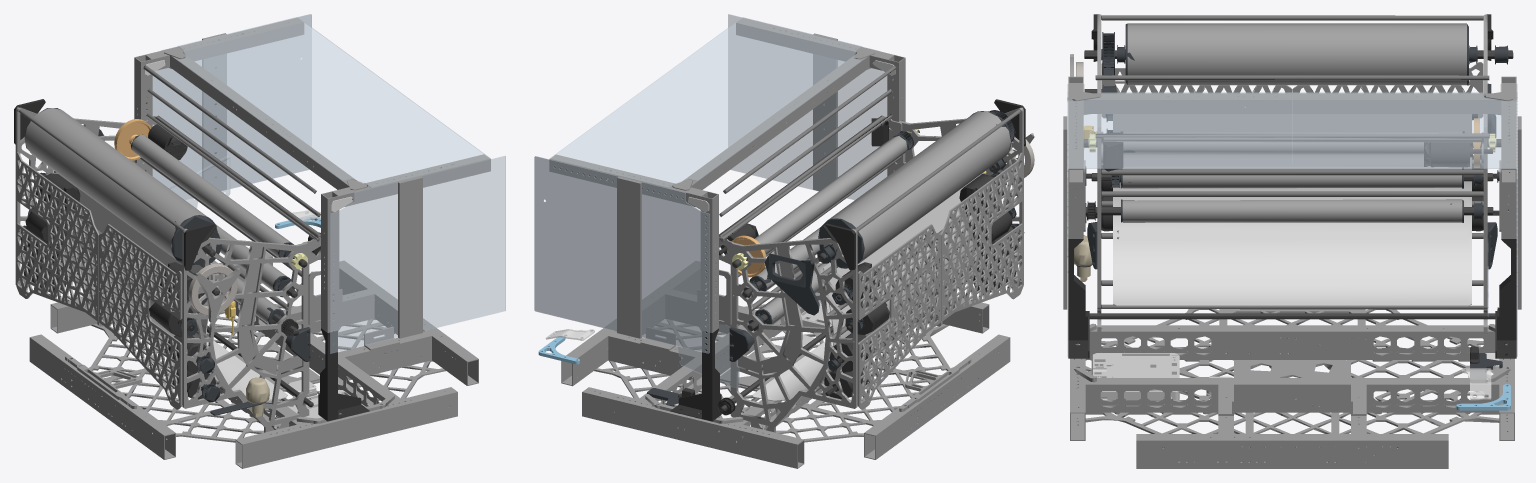
The model's file is 581-body.glb.
3 renders of one model, left to right at view 1: azimuth 30°, elevation 25°; view 2: azimuth 150°, elevation 25°; view 3: azimuth 270°, elevation 25°, orthographic. The views are drawn at different scales.
Visible parts, largest first — view 1: Part 15, Part 22, 4568T12_Anodized Architectural 6063 Aluminum Round Tube, Kraken X44 Powered by TalonFX (WCP-0941), ShooterFloor, Part 18, Part 2, WCP-2414 Inertia Flywheel, 62T 20DP 1/2" Alum Dished, VEX-THND-500-3-NONE, RSL, id2486; view 2: Part 15, Part 22, 4568T12_Anodized Architectural 6063 Aluminum Round Tube, Part 2, ShooterFloor, Kraken X44 Powered by TalonFX (WCP-0941), Part 18, VEX-THND-500-3-NONE, 62T 20DP 1/2" Alum Dished, id2486; view 3: Part 15, ShooterFloor, Part 22, 4568T12_Anodized Architectural 6063 Aluminum Round Tube, Part 18, VEX-THND-500-3-NONE, Part 2, id2486, Kraken X44 Powered by TalonFX (WCP-0941), 26A0129 Right Encoder Cover, 26A0124swerve chop, RSL.
Part boxes in pixels (x1,y1,x2,y2): Part 15: [15, 17, 490, 468]; Part 22: [152, 14, 505, 353]; 4568T12_Anodized Architectural 6063 Aluminum Round Tube: [18, 65, 320, 400]; Kraken X44 Powered by TalonFX (WCP-0941): [20, 124, 215, 399]; ShooterFloor: [58, 174, 287, 400]; Part 18: [14, 99, 369, 421]; Part 2: [20, 108, 310, 415]; WCP-2414 Inertia Flywheel: [188, 263, 237, 315]; 62T 20DP 1/2" Alum Dished: [114, 119, 151, 160]; VEX-THND-500-3-NONE: [133, 139, 313, 407]; RSL: [246, 377, 269, 417]; id2486: [287, 380, 365, 418]; Part 15: [549, 18, 1034, 468]; Part 22: [534, 14, 887, 387]; 4568T12_Anodized Architectural 6063 Aluminum Round Tube: [719, 66, 1021, 402]; Part 2: [647, 110, 1024, 406]; ShooterFloor: [752, 174, 981, 401]; Kraken X44 Powered by TalonFX (WCP-0941): [678, 174, 1019, 399]; Part 18: [670, 99, 1025, 421]; VEX-THND-500-3-NONE: [720, 129, 1015, 411]; 62T 20DP 1/2" Alum Dished: [727, 235, 766, 277]; id2486: [801, 300, 833, 347]; Part 15: [1063, 14, 1521, 468]; ShooterFloor: [1113, 114, 1471, 306]; Part 22: [1067, 92, 1517, 356]; 4568T12_Anodized Architectural 6063 Aluminum Round Tube: [1095, 15, 1489, 309]; Part 18: [1068, 14, 1516, 358]; VEX-THND-500-3-NONE: [1083, 50, 1513, 319]; Part 2: [1076, 23, 1508, 382]; id2486: [1091, 353, 1232, 401]; Kraken X44 Powered by TalonFX (WCP-0941): [1086, 142, 1499, 363]; 26A0129 Right Encoder Cover: [1461, 368, 1491, 399]; 26A0124swerve chop: [1456, 384, 1510, 410]; RSL: [1074, 236, 1092, 281].
Bounding box in the file's own units: 0.6892 × 0.526 × 0.7461.
